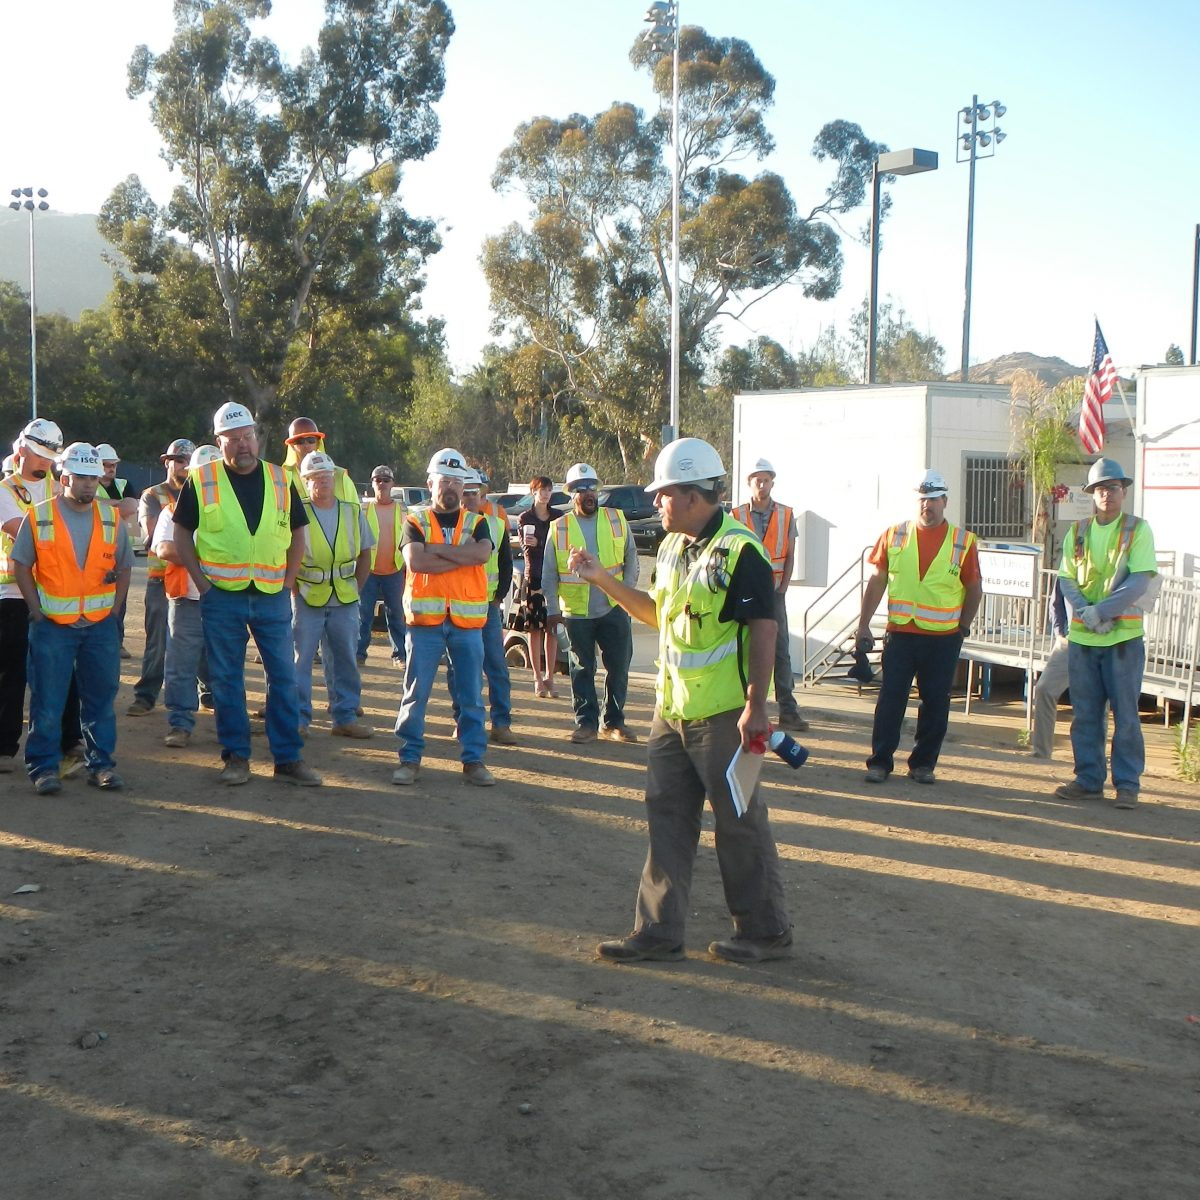Helmet: (643, 431, 727, 546), (211, 397, 266, 481), (8, 408, 64, 487), (1076, 451, 1138, 521), (905, 462, 957, 530), (59, 433, 105, 509), (296, 446, 344, 516), (562, 456, 609, 527), (423, 444, 470, 512), (742, 452, 785, 505), (157, 434, 197, 482), (96, 436, 123, 484)
Reflective vest: (644, 520, 774, 729), (184, 456, 295, 603), (1057, 513, 1159, 651), (29, 493, 127, 630), (876, 521, 982, 641), (546, 508, 631, 636), (410, 511, 489, 633), (290, 496, 367, 612), (736, 498, 796, 600), (363, 495, 409, 588)
